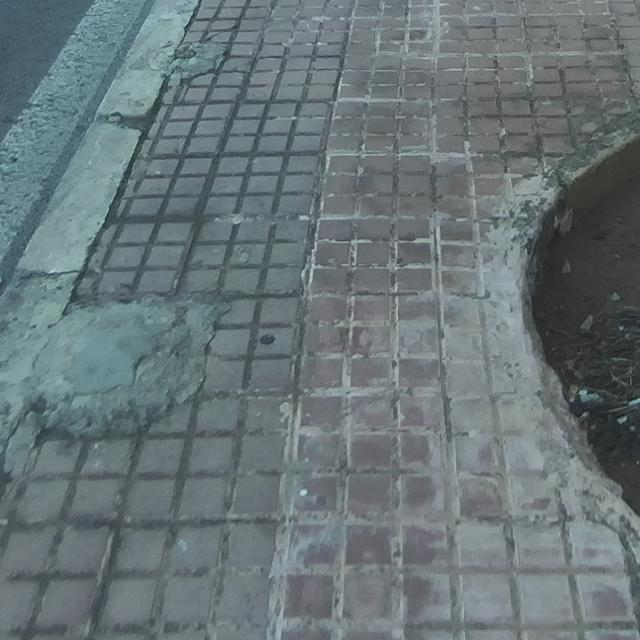calcada_quebrada: (161, 44, 232, 88)
